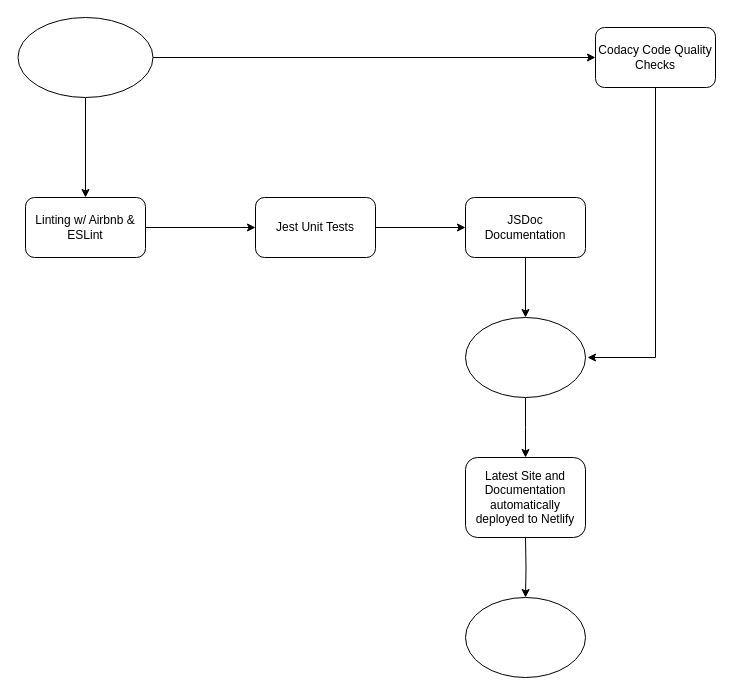
Image size: 733x695. Some labels were removed from this diagram. The centre of each missing label's shape, as x and y in pixels:
"Done" belongs at point 525,637.
"Human PR Review" belongs at point 525,357.
"Push or Pull Request in Github Repository" belongs at point 85,57.
